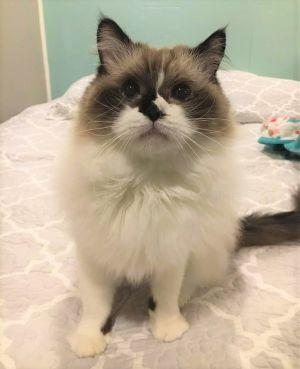ragdoll: (76, 9, 238, 177)
